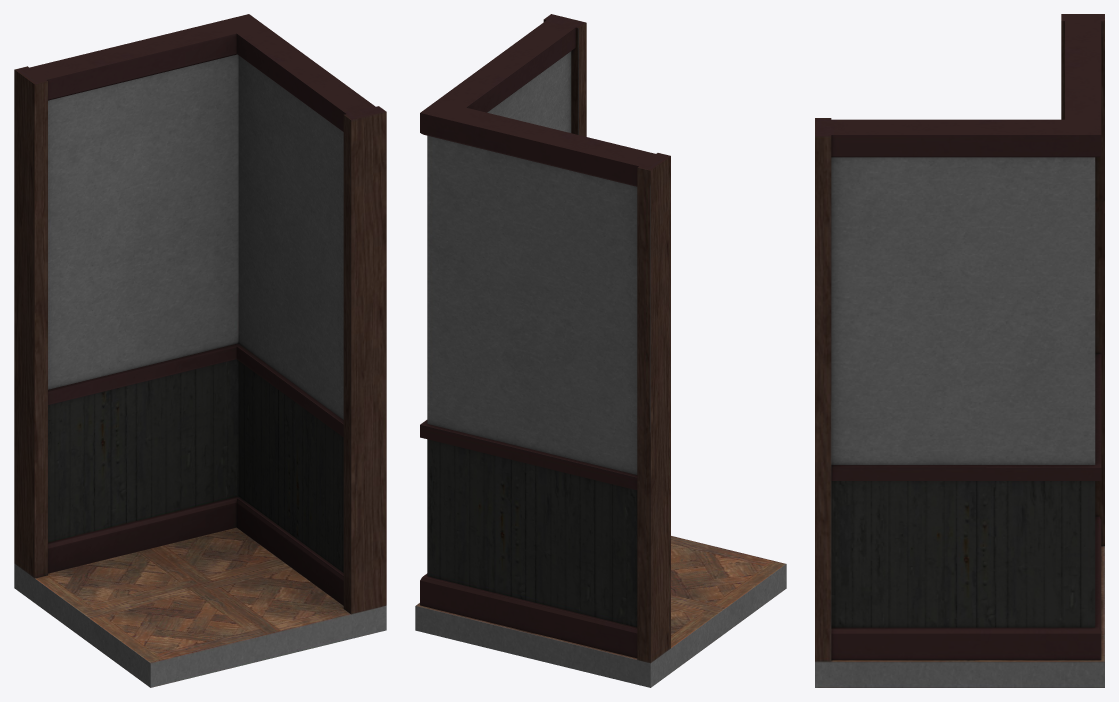
Rendered from SM_Wall_Corner.fbx.
3 views of the same model, side by side, from view 1: azimuth 30°, elevation 25°; view 2: azimuth 150°, elevation 25°; view 3: azimuth 270°, elevation 25° (orthographic). The views are drawn at different scales.
Visible parts, largest first — view 1: Wal_Corner; view 2: Wal_Corner; view 3: Wal_Corner.
Part boxes in pixels (left/top/right/bottom): Wal_Corner: left=14, top=14, right=386, bottom=687; Wal_Corner: left=415, top=14, right=786, bottom=687; Wal_Corner: left=815, top=14, right=1104, bottom=687.
Size of the model in its own units: 200 by 420 by 200.
